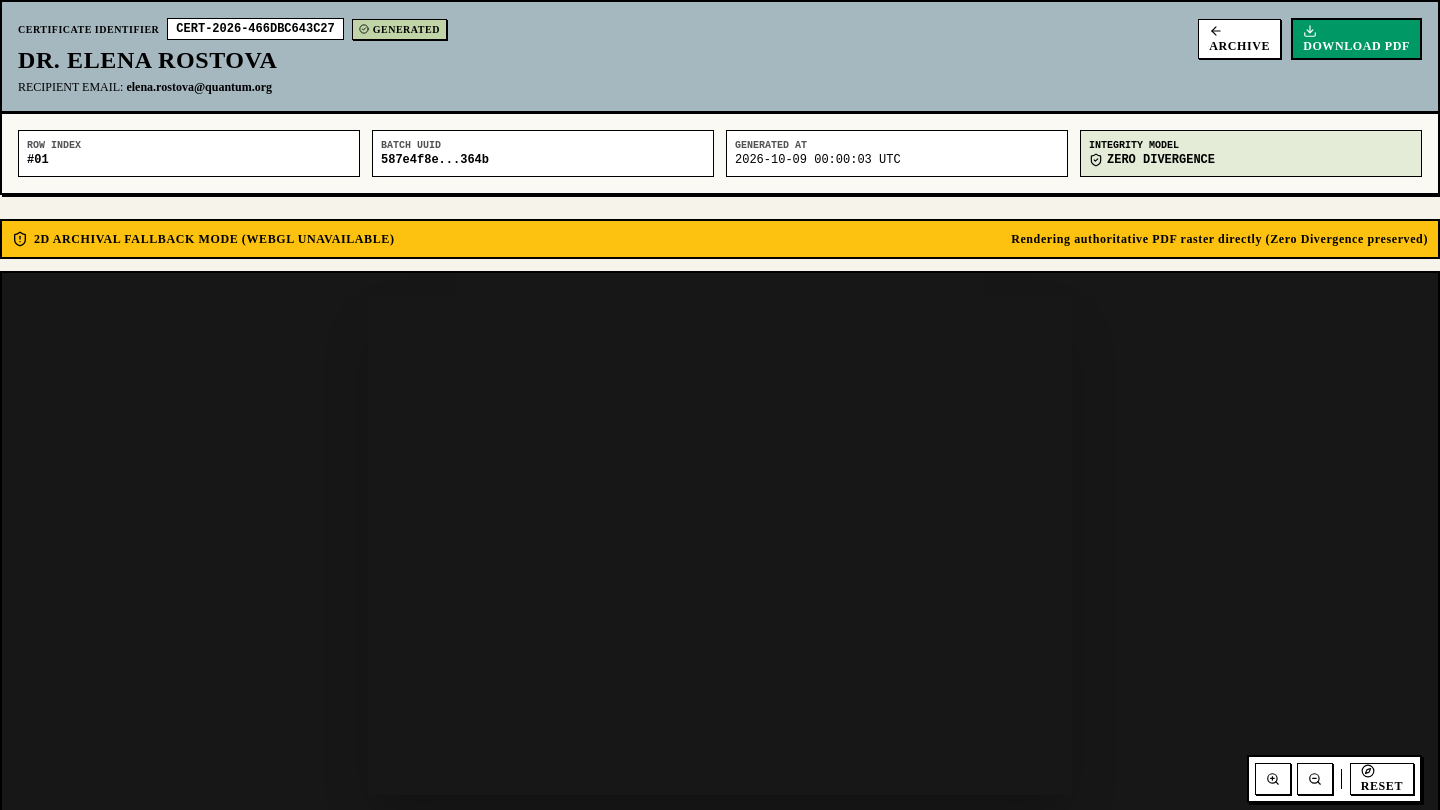
CertificateInspectorPage Integration (Zero-Divergence) › 8. Allows downloading authoritative backend PDF and displays confirmation
Check: the heading "Dr. Elena Rostova" is shown, box 18,47 -> 277,73
Click the button with aria-label "Download official PDF certificate".
click(1357, 39)  # box 1291,18 -> 1422,60
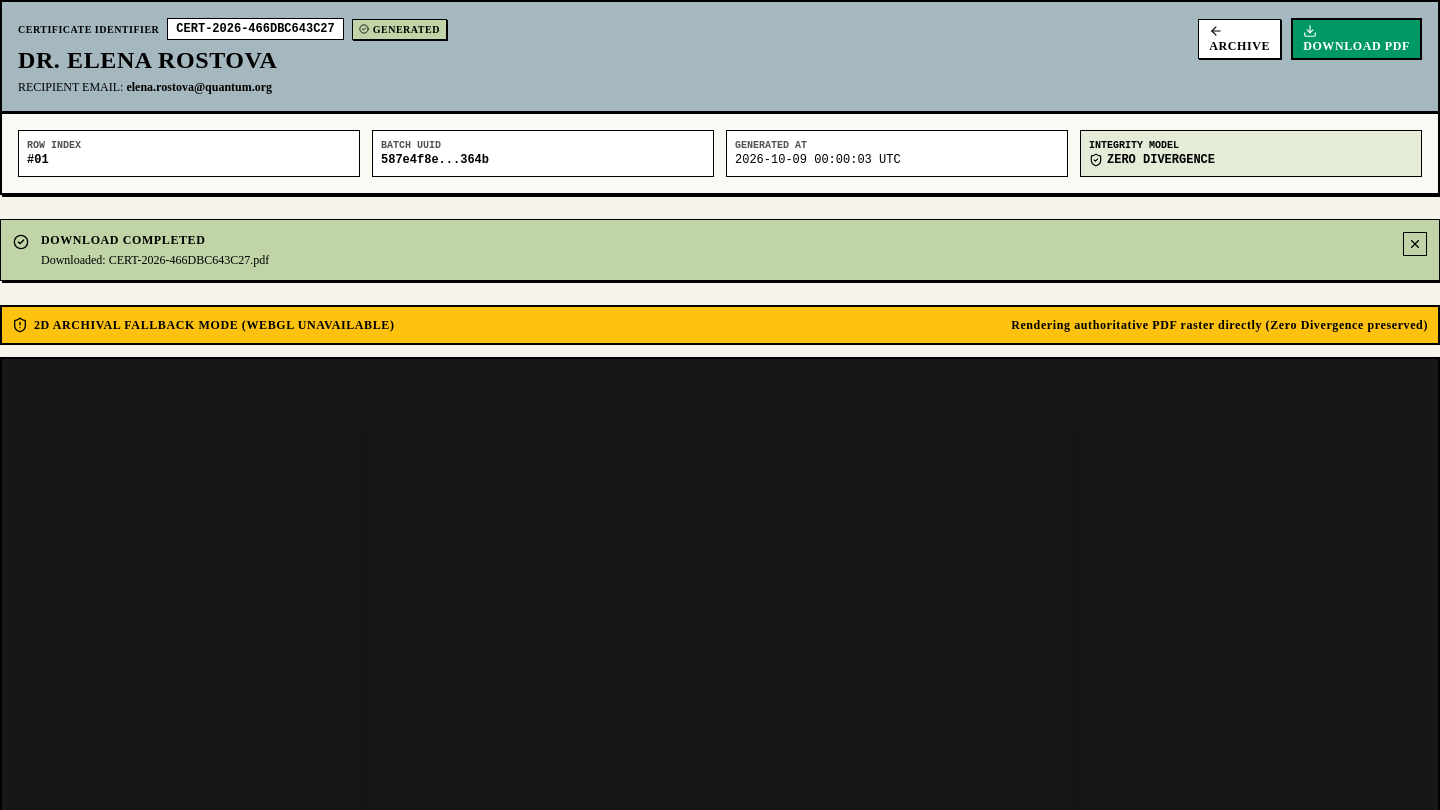
Check: the text "Downloaded: CERT-2026-466DBC643C27.pdf" is shown, box 41,253 -> 269,267
